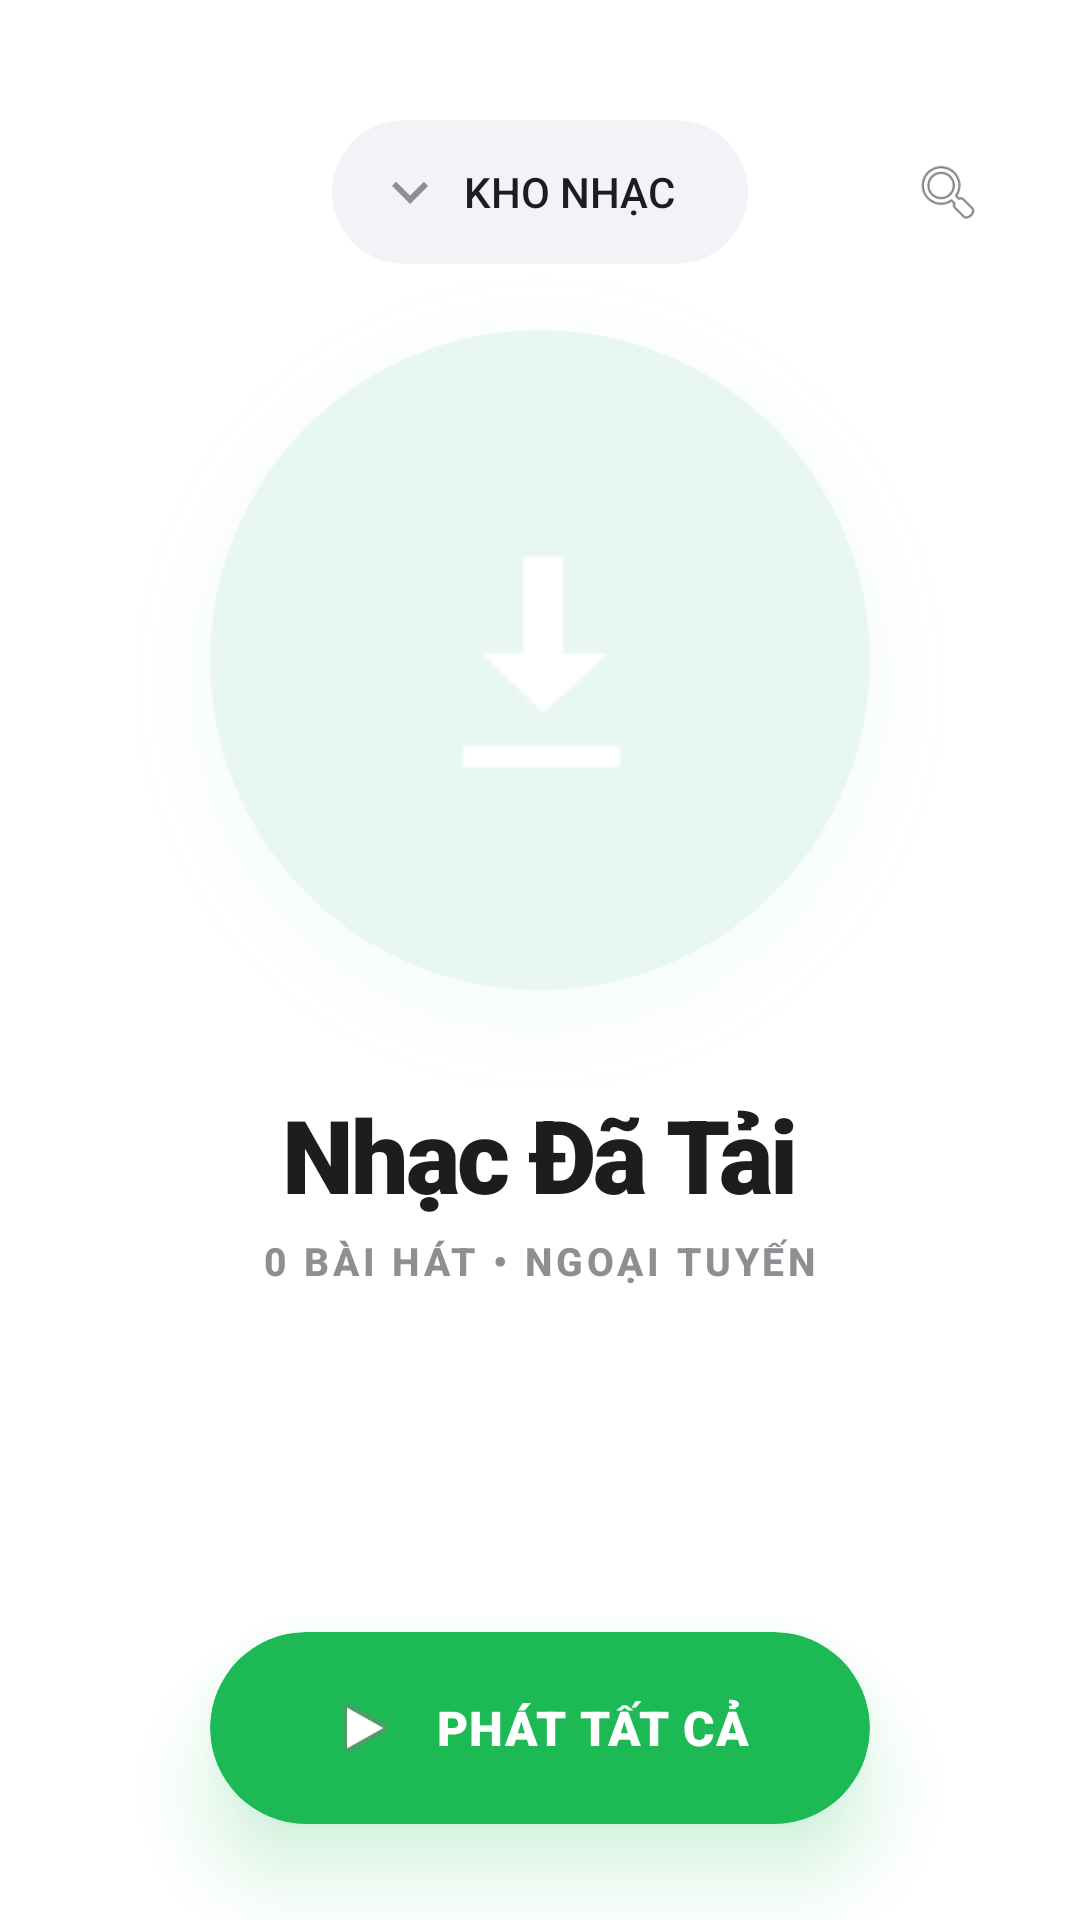

Icon click points for this 1080*1920 phone screenshot, format (x=x, y=y):
chevron down: (x=410, y=193)
play: (x=365, y=1728)
search: (x=948, y=192)
